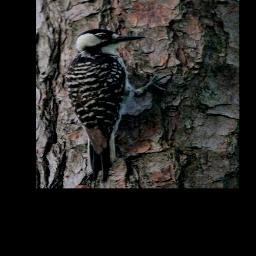Woodpecker: (60, 28, 178, 182)
